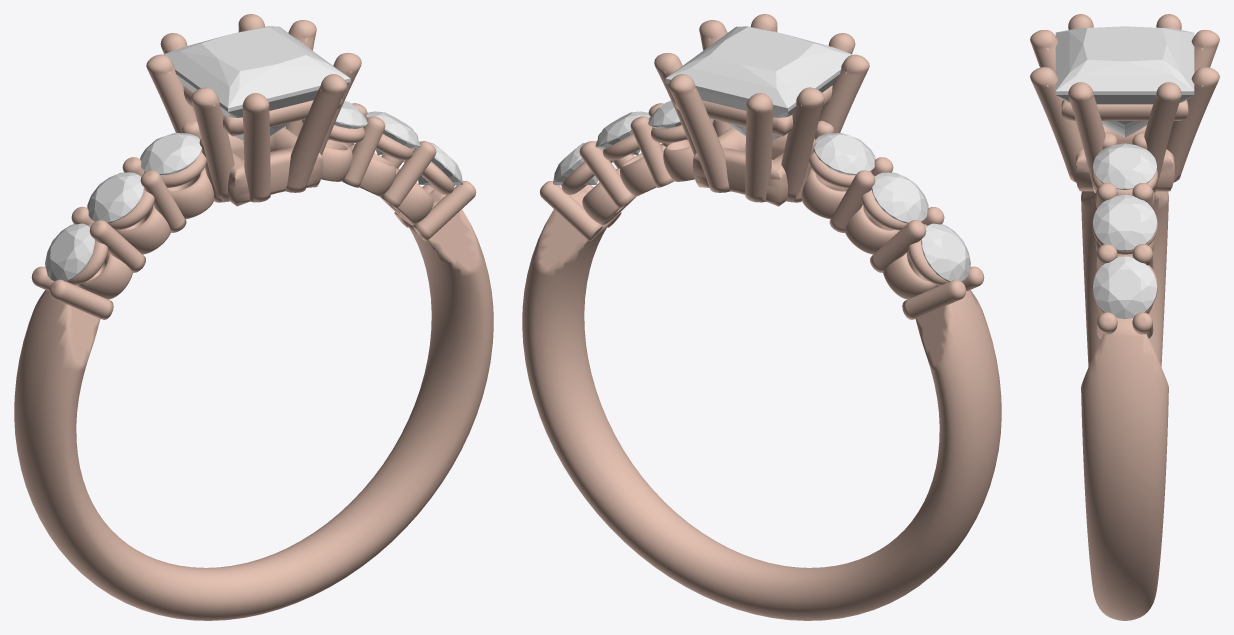
The model's file is diamond-princess-rosegold-8prong-taperedband-7stone.glb.
3 renders of one model, left to right at view 1: azimuth 30°, elevation 25°; view 2: azimuth 150°, elevation 25°; view 3: azimuth 270°, elevation 25°, orthographic.
Parts seen in each view (by area): view 1: metal, stone, side, side.001, side.002, side.004, side.005; view 2: metal, stone, side, side.001, side.002, side.004, side.005; view 3: metal, stone, side.005, side.004, side.003.
Part boxes in pixels (x1,y1,x2,y2): metal: (14, 14, 493, 620); stone: (163, 26, 350, 140); side: (45, 223, 94, 281); side.001: (87, 172, 144, 223); side.002: (140, 133, 201, 175); side.004: (365, 111, 420, 155); side.005: (418, 141, 462, 185); metal: (522, 14, 1001, 620); stone: (665, 26, 852, 140); side: (921, 223, 970, 281); side.001: (871, 172, 928, 223); side.002: (814, 133, 875, 175); side.004: (595, 111, 650, 155); side.005: (553, 141, 597, 185); metal: (1030, 14, 1219, 620); stone: (1055, 26, 1194, 137); side.005: (1093, 256, 1156, 318); side.004: (1093, 194, 1156, 250); side.003: (1093, 143, 1156, 189).
Bounding box in the file's own units: 20.5 × 23.85 × 7.42.
